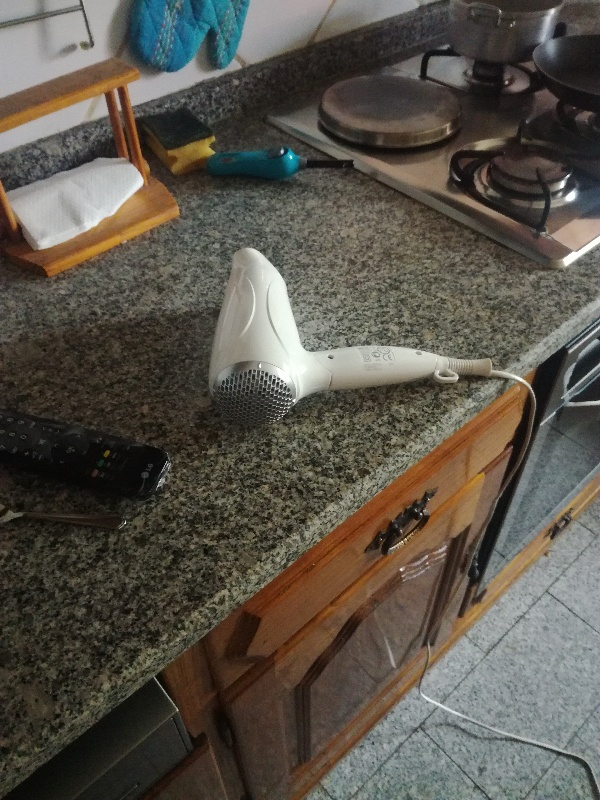hair dryer: (207, 249, 496, 429)
